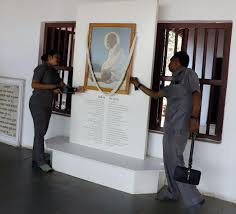Good: (28, 50, 204, 205)
